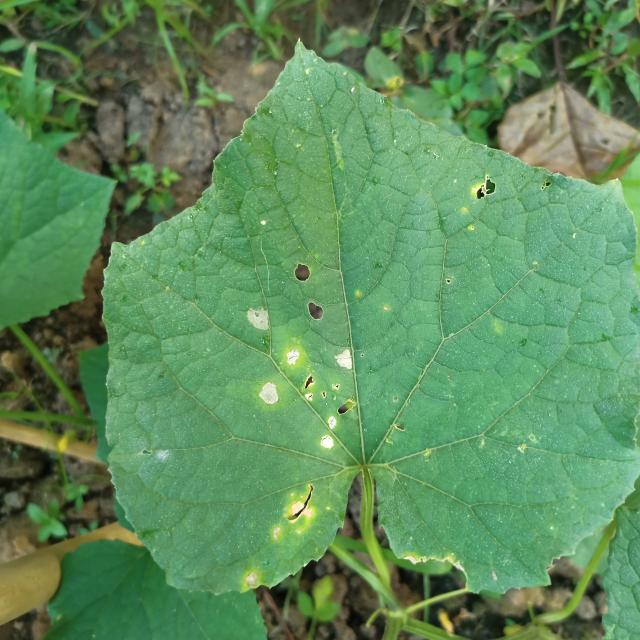disease_cucumber: (245, 298, 374, 458)
